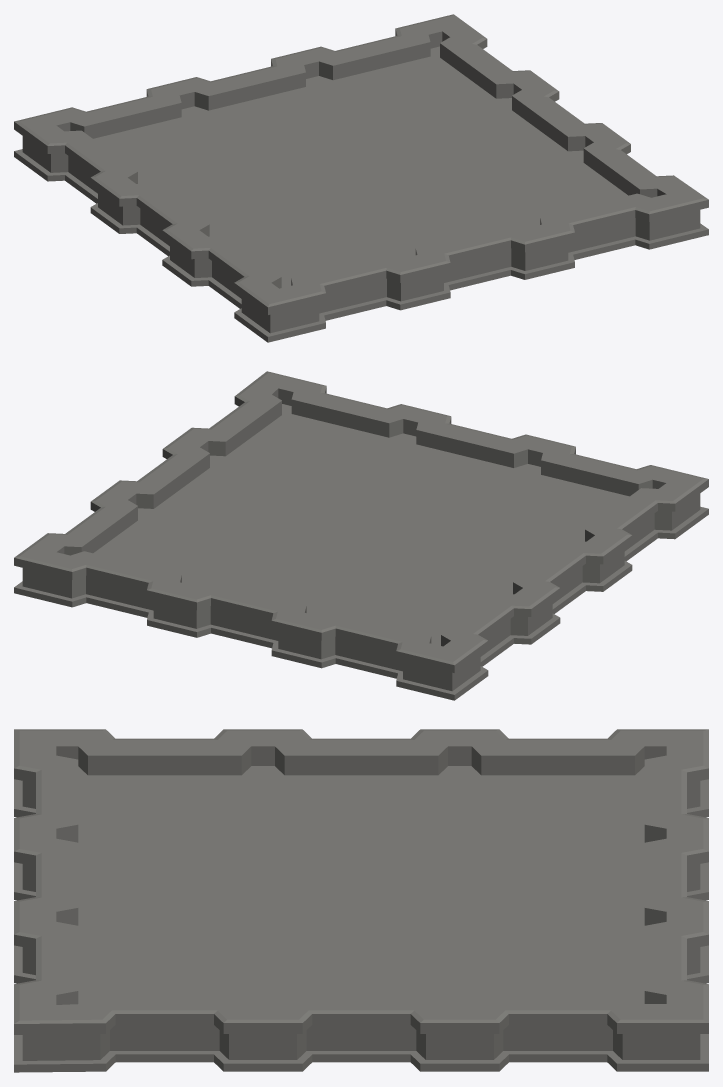
Rendered from SM_Bldg_City_High-Rise_02_03_Roof_01.fbx.
3 views of the same model, one above another, from view 1: azimuth 30°, elevation 25°; view 2: azimuth 150°, elevation 25°; view 3: azimuth 270°, elevation 25° (orthographic). The views are drawn at different scales.
Visible parts, largest first — view 1: SM_Bldg_City_High-Rise_02&03_Roof_01; view 2: SM_Bldg_City_High-Rise_02&03_Roof_01; view 3: SM_Bldg_City_High-Rise_02&03_Roof_01.
Part boxes in pixels (x1=…): SM_Bldg_City_High-Rise_02&03_Roof_01: x1=14, y1=14, x2=708, y2=342; SM_Bldg_City_High-Rise_02&03_Roof_01: x1=14, y1=371, x2=708, y2=700; SM_Bldg_City_High-Rise_02&03_Roof_01: x1=14, y1=729, x2=708, y2=1072.
Bounding box in the file's own units: 1595 × 125 × 1590.
